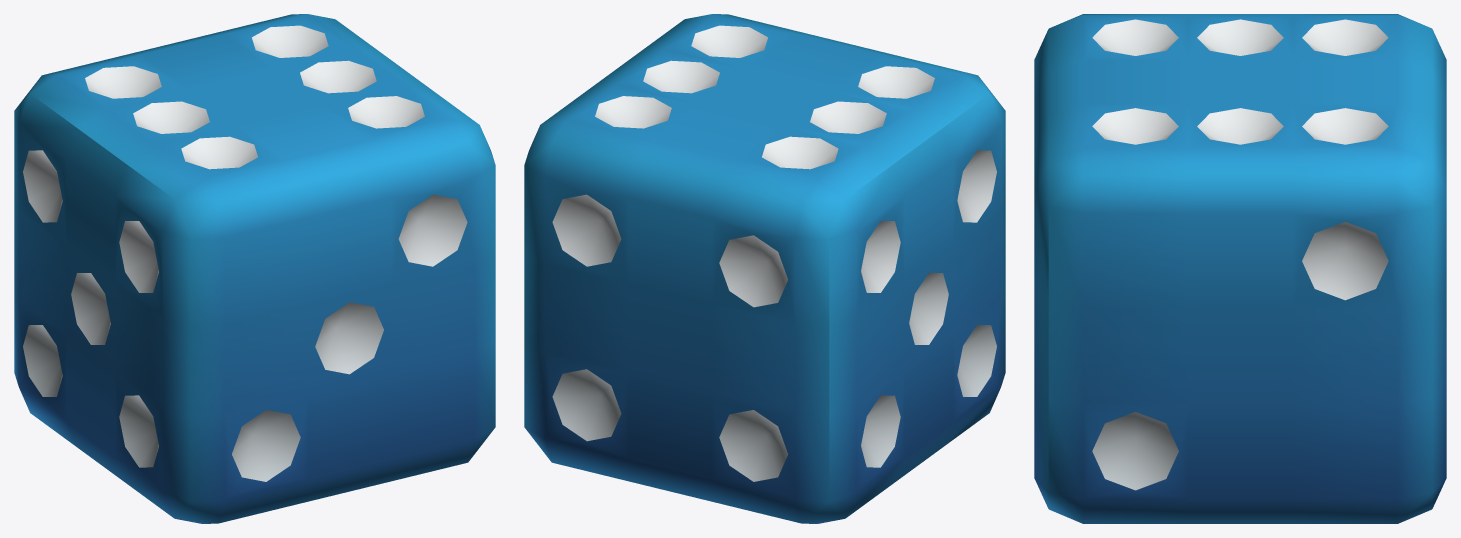
Rendered from D6_A_blue.obj.
3 views of the same model, side by side, from view 1: azimuth 30°, elevation 25°; view 2: azimuth 150°, elevation 25°; view 3: azimuth 270°, elevation 25° (orthographic). The views are drawn at different scales.
Visible parts, largest first — view 1: D6_A_blue; view 2: D6_A_blue; view 3: D6_A_blue.
Part boxes in pixels (x1,y1,x2,y2): D6_A_blue: (14, 14, 495, 523); D6_A_blue: (524, 14, 1005, 523); D6_A_blue: (1034, 14, 1446, 523).
Size of the model in its own units: 0.75 by 0.75 by 0.75.
1 material, 1 textured.
